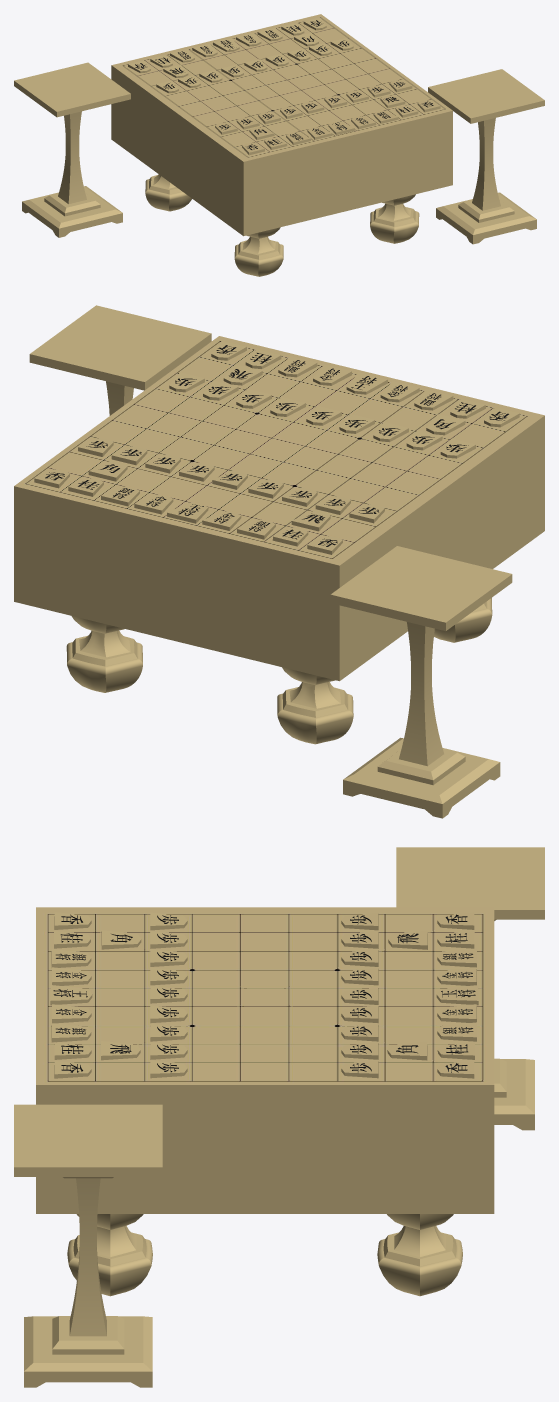
File: 629_将棋セット初期配置2.glb
The picture shows the model from 3 angles, top to bottom: view 1: azimuth 30°, elevation 25°; view 2: azimuth 150°, elevation 25°; view 3: azimuth 270°, elevation 25°; orthographic projection. The views are drawn at different scales.
Parts seen in each view (by area): view 1: syougi_ban, komadai2, komadai1; view 2: syougi_ban, komadai2, komadai1, oh; view 3: syougi_ban, komadai1, komadai2, gyoku, oh, kaku, kaku.001, gin2, gin1, kin2, hisha.001, hisha (+5 smaller).
Part boxes in pixels (<box>): syougi_ban: <box>111,14,452,276</box>; komadai2: <box>14,62,130,237</box>; komadai1: <box>428,69,544,244</box>; syougi_ban: <box>14,336,544,744</box>; komadai2: <box>330,546,512,818</box>; komadai1: <box>29,305,211,415</box>; oh: <box>346,372,387,394</box>; syougi_ban: <box>36,907,494,1296</box>; komadai1: <box>14,1104,162,1387</box>; komadai2: <box>396,847,544,1130</box>; gyoku: <box>436,985,478,1005</box>; oh: <box>50,985,92,1005</box>; kaku: <box>101,930,141,949</box>; kaku.001: <box>387,1041,427,1060</box>; gin2: <box>51,1023,91,1042</box>; gin1: <box>51,949,91,967</box>; kin2: <box>52,1004,91,1023</box>; hisha.001: <box>388,930,427,949</box>; hisha: <box>101,1041,140,1060</box>.
Bounding box in the file's own units: 0.6114 × 0.213 × 0.4287.
Materials: 22 (1 with a texture image).
